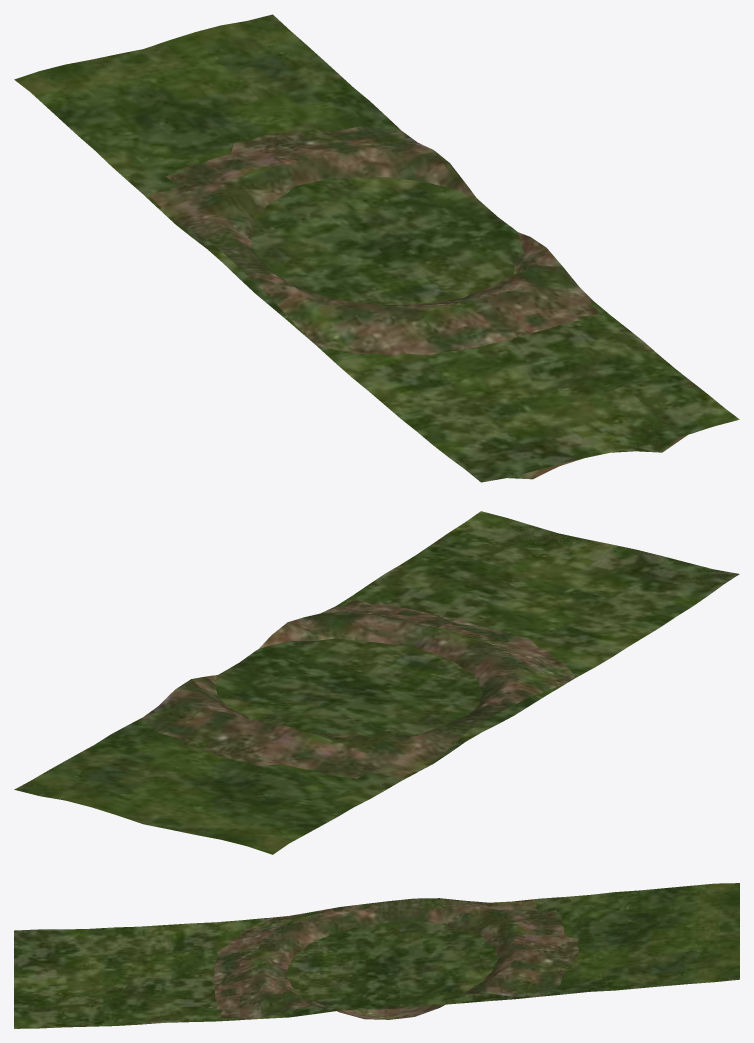
File: starfort_glacis_live.glb
The picture shows the model from 3 angles, top to bottom: view 1: azimuth 30°, elevation 25°; view 2: azimuth 150°, elevation 25°; view 3: azimuth 270°, elevation 25°; orthographic projection. The views are drawn at different scales.
Parts seen in each view (by area): view 1: intact, breached, cracked; view 2: intact, breached; view 3: intact, breached.
Boxes of the visible parts, box(x1,y1,x2,y2) form: intact: box(14, 14, 739, 482); breached: box(16, 17, 719, 456); cracked: box(144, 36, 705, 479); intact: box(14, 511, 739, 854); breached: box(34, 514, 737, 852); intact: box(14, 883, 739, 1028); breached: box(14, 883, 739, 1027).
Size of what is drawn, in the model's own units: 4 by 1.43 by 12.5.
Materials: 1 (1 with a texture image).
